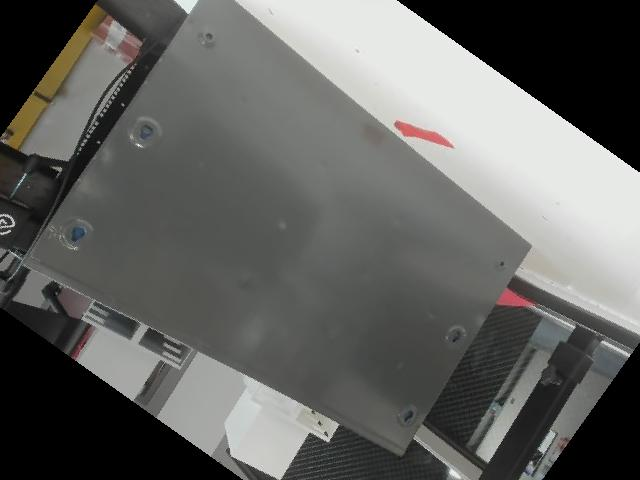grey pallet: (57, 287, 209, 399)
white pallet: (212, 352, 344, 478)
